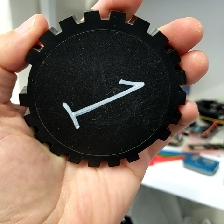gear: (17, 9, 189, 169)
missing: (126, 125, 171, 165), (18, 47, 43, 108)
